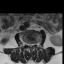CCS_stenosis: (30, 41, 31, 49)
LFS_normal: (33, 41, 36, 47)
LLS_normal: (31, 41, 33, 47)
RFS_normal: (25, 40, 28, 47)
RLS_normal: (28, 41, 30, 48)
